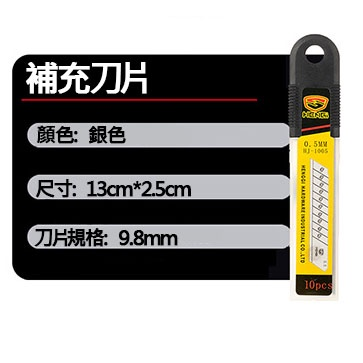cutter: (287, 32, 338, 298)
